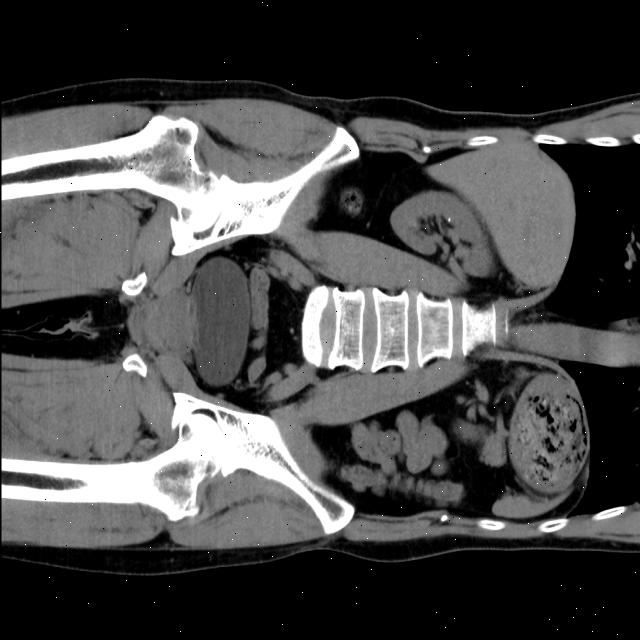kidneystone: (447, 216, 455, 224)
